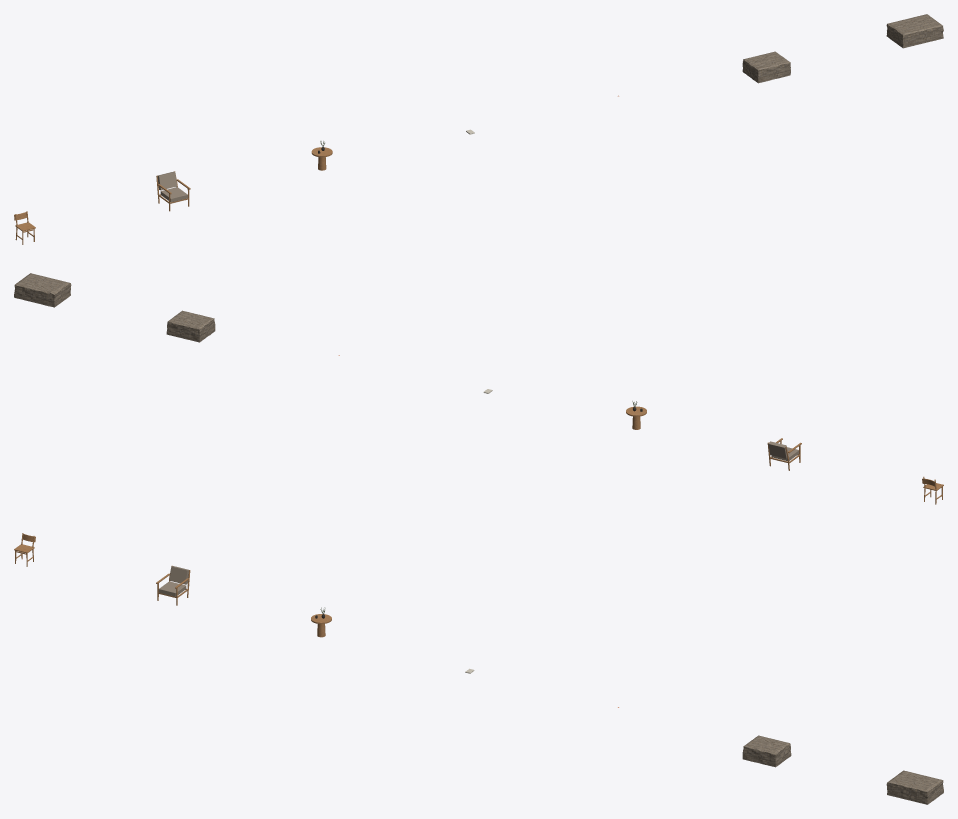
Rendered from props.gltf.
3 views of the same model, one above another, from view 1: azimuth 30°, elevation 25°; view 2: azimuth 150°, elevation 25°; view 3: azimuth 330°, elevation 25° (orthographic).
Visible parts, largest first — view 1: slab_wide, slab, armchair; view 2: slab_wide, slab, armchair; view 3: slab_wide, slab, armchair.
Boxes of the visible parts, x1,y1,x2,y2 form: slab_wide: (886, 14, 943, 48); slab: (742, 51, 790, 83); armchair: (156, 171, 190, 211); slab_wide: (14, 273, 71, 307); slab: (166, 310, 215, 342); armchair: (767, 438, 801, 470); slab_wide: (886, 770, 943, 804); slab: (742, 735, 791, 767); armchair: (156, 565, 190, 605).
Bounding box in the file's own units: 12.37 × 0.5302 × 0.3974.
Materials: 8 (2 with a texture image).
